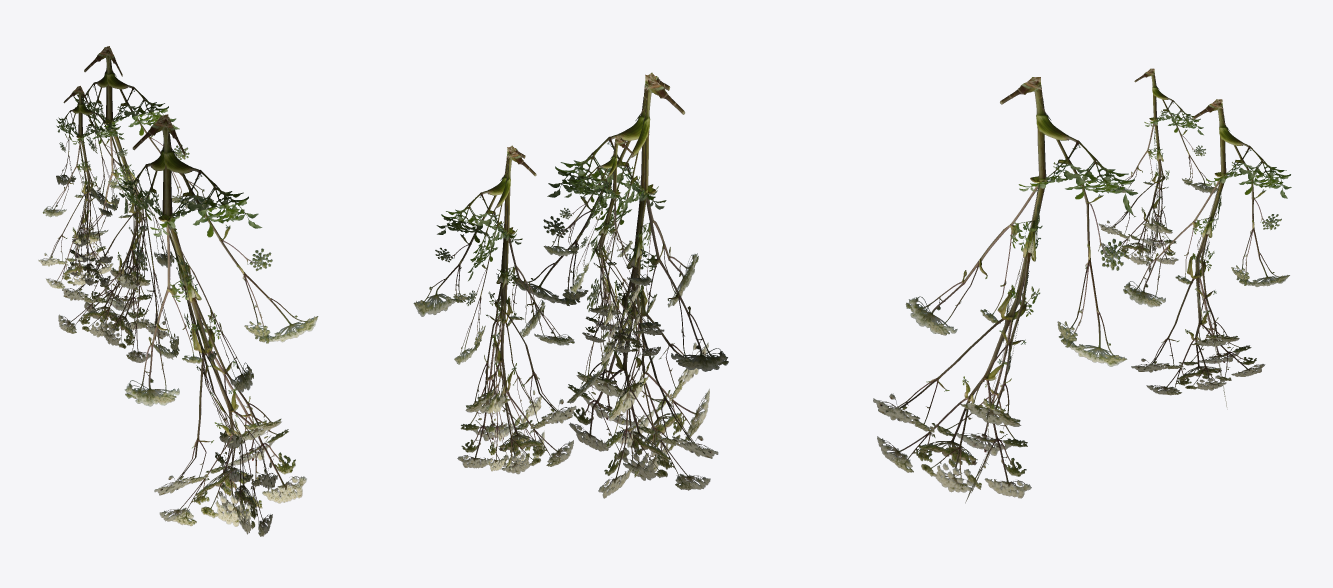
The model's file is smallLeavesPlant.fbx.
3 views of the same model, side by side, from view 1: azimuth 30°, elevation 25°; view 2: azimuth 150°, elevation 25°; view 3: azimuth 270°, elevation 25° (orthographic). The views are drawn at different scales.
Visible parts, largest first — view 1: TexturesCom_NaturePlants0056_1_alphamasked_S003; view 2: TexturesCom_NaturePlants0056_1_alphamasked_S003; view 3: TexturesCom_NaturePlants0056_1_alphamasked_S003.
Part boxes in pixels (bbox=[...]): TexturesCom_NaturePlants0056_1_alphamasked_S003: bbox=[38, 46, 318, 536]; TexturesCom_NaturePlants0056_1_alphamasked_S003: bbox=[413, 72, 728, 498]; TexturesCom_NaturePlants0056_1_alphamasked_S003: bbox=[873, 68, 1291, 503].
Size of the model in its own units: 39.8 by 57.75 by 58.11.
